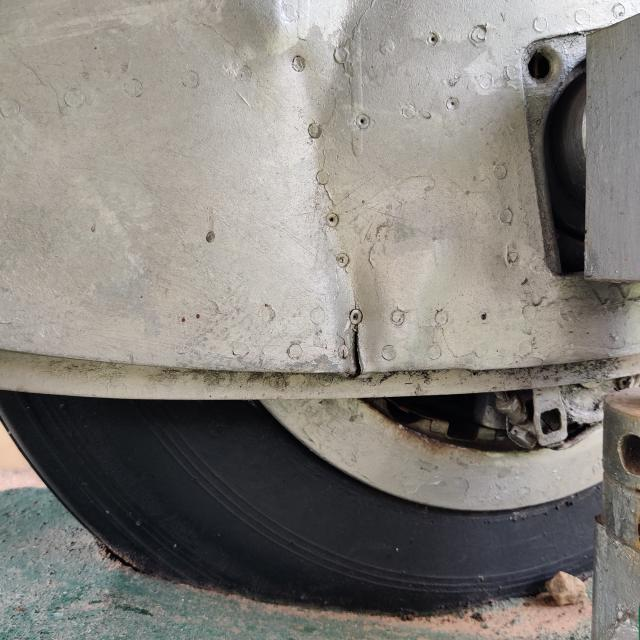crack: (337, 316, 386, 380)
